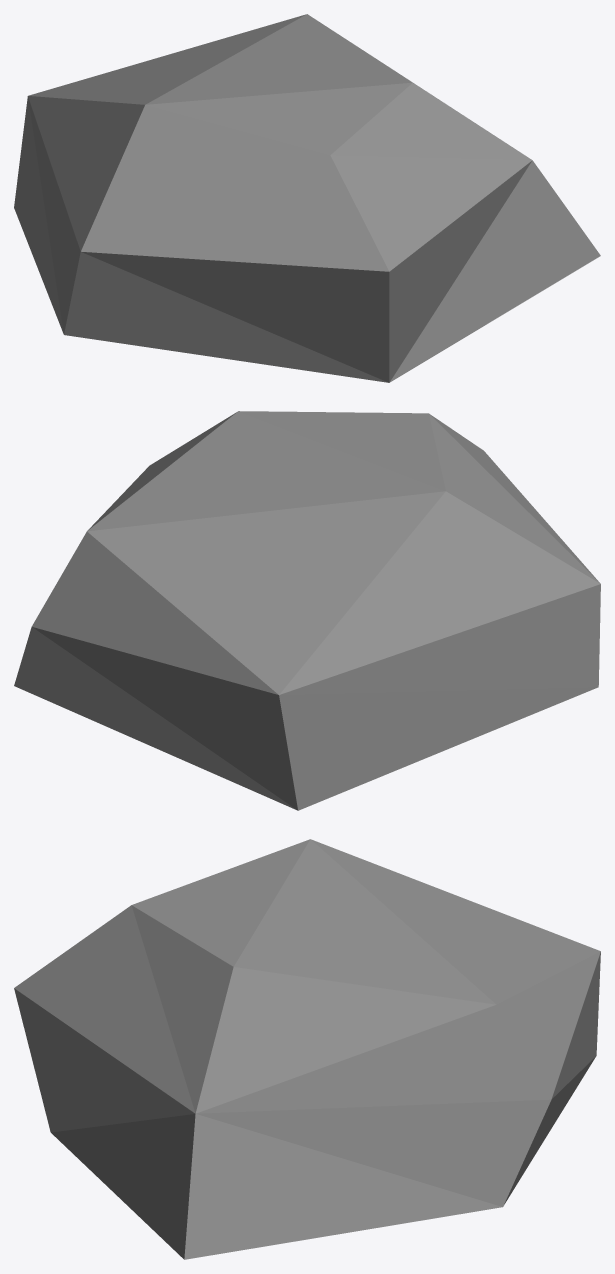
Rendered from LittleRock.fbx.
3 views of the same model, one above another, from view 1: azimuth 30°, elevation 25°; view 2: azimuth 150°, elevation 25°; view 3: azimuth 270°, elevation 25° (orthographic). The views are drawn at different scales.
Parts seen in each view (by area): view 1: Flat_Rock_01__1___1_; view 2: Flat_Rock_01__1___1_; view 3: Flat_Rock_01__1___1_.
Part boxes in pixels (x1,y1,x2,y2): Flat_Rock_01__1___1_: [14, 14, 600, 382]; Flat_Rock_01__1___1_: [14, 411, 600, 810]; Flat_Rock_01__1___1_: [14, 839, 600, 1259].
Bounding box in the file's own units: 175 × 71.71 × 165.
1 material, 1 textured.
